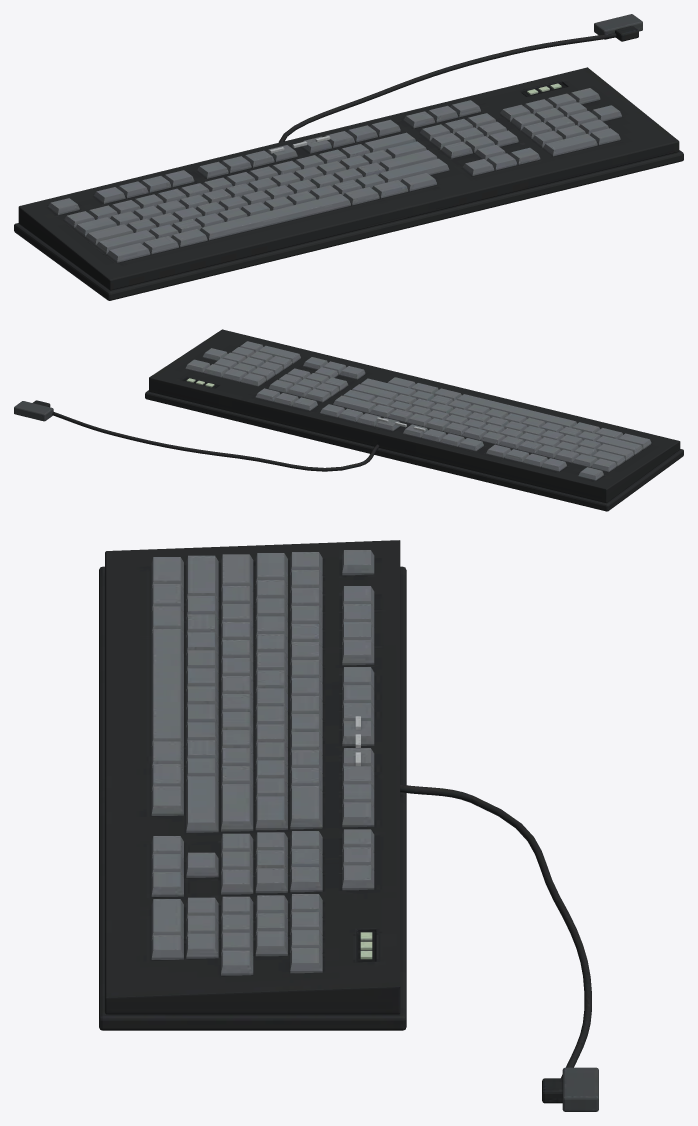
File: keyboard-f.glb
3 renders of one model, top to bottom at view 1: azimuth 30°, elevation 25°; view 2: azimuth 150°, elevation 25°; view 3: azimuth 270°, elevation 25°, orthographic. The views are drawn at different scales.
Parts seen in each view (by area): view 1: case-baked; view 2: case-baked; view 3: case-baked.
Part boxes in pixels (left/top/right/bottom): case-baked: left=14, top=14, right=683, bottom=300; case-baked: left=14, top=329, right=683, bottom=511; case-baked: left=99, top=540, right=598, bottom=1111.
Size of the model in its own units: 0.521 by 0.025 by 0.2065.
Materials: 1 (1 with a texture image).
